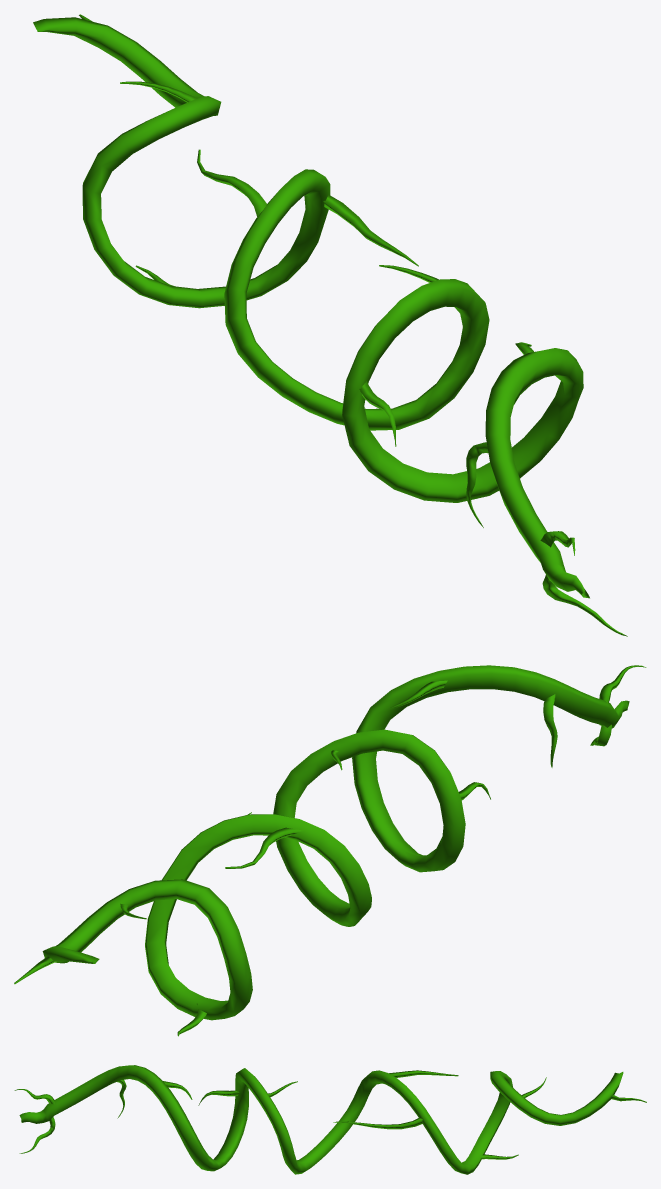
Rendered from env_amazon_vines_01.fbx.
3 renders of one model, top to bottom at view 1: azimuth 30°, elevation 25°; view 2: azimuth 150°, elevation 25°; view 3: azimuth 270°, elevation 25°, orthographic. The views are drawn at different scales.
Visible parts, largest first — view 1: env_amazon_vines_01; view 2: env_amazon_vines_01; view 3: env_amazon_vines_01.
Boxes of the visible parts, x1=… form: env_amazon_vines_01: x1=33, y1=14, x2=627, y2=636; env_amazon_vines_01: x1=14, y1=665, x2=646, y2=1036; env_amazon_vines_01: x1=14, y1=1065, x2=646, y2=1174.
Size of the model in its own units: 2.56 by 2.51 by 14.99.
